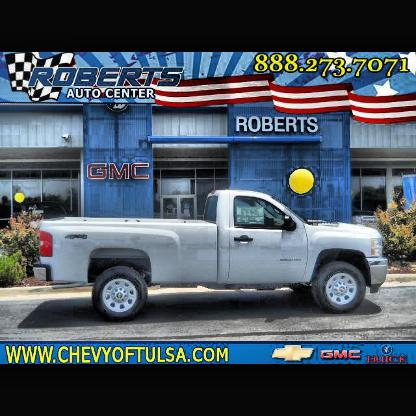Chevrolet Silverado 2500HD Regular Cab 2012: (33, 192, 389, 323)
